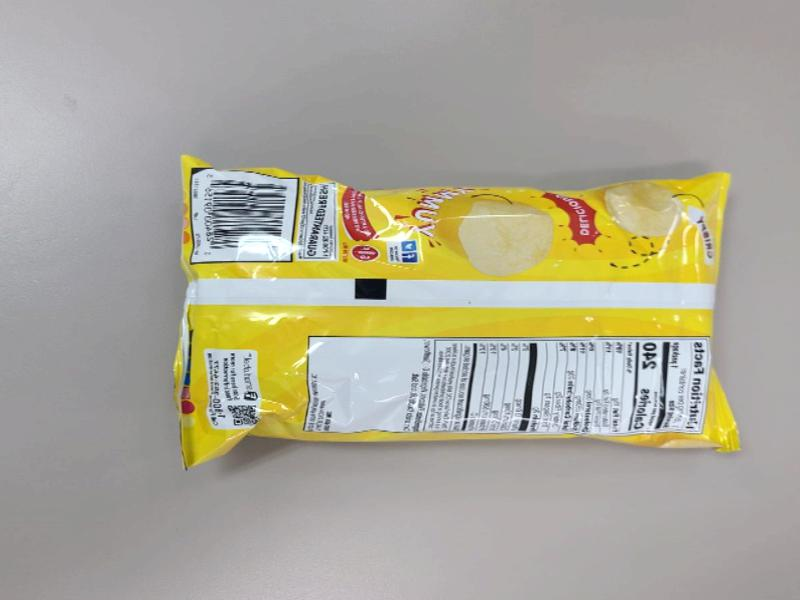lays: (175, 293, 794, 481)
